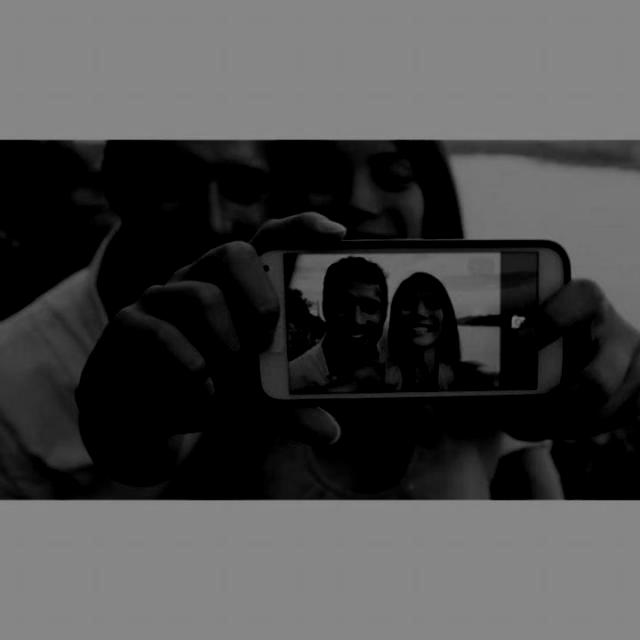fake: (251, 237, 575, 403)
